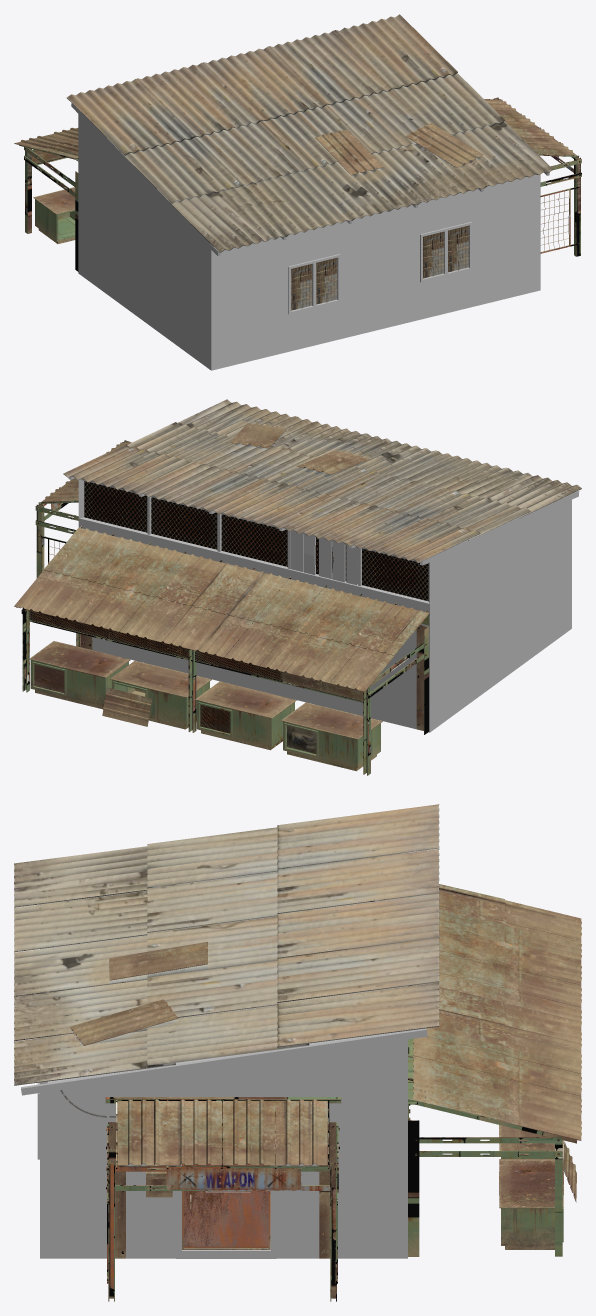
File: SHOP1.fbx
3 renders of one model, top to bottom at view 1: azimuth 30°, elevation 25°; view 2: azimuth 150°, elevation 25°; view 3: azimuth 270°, elevation 25°, orthographic. The views are drawn at different scales.
Parts seen in each view (by area): view 1: Roof, Object007, Object008, Glass, Woods, Object004, Environments, Object005, Object014, Object017; view 2: Roof, Object008, Object004, Tiles, Object009, Woods, Object005, Object016, Environments, Object018, Object017, Object019 (+1 smaller); view 3: Roof, Object010, Wall, Woods, Object005, Object004, Object003, Environments, Object015, Object014, Object020, Object019.
Boxes of the visible parts, x1,y1,x2,y2 form: Roof: [14, 14, 576, 252]; Object007: [211, 174, 540, 370]; Object008: [78, 114, 211, 370]; Glass: [291, 225, 468, 310]; Woods: [71, 102, 549, 314]; Object004: [33, 187, 75, 243]; Environments: [32, 150, 569, 308]; Object005: [19, 97, 581, 197]; Object014: [540, 156, 581, 256]; Object017: [25, 148, 31, 233]; Roof: [14, 399, 581, 726]; Object008: [428, 499, 571, 732]; Object004: [29, 641, 382, 771]; Tiles: [29, 481, 428, 733]; Object009: [78, 517, 429, 732]; Woods: [68, 476, 579, 601]; Object005: [16, 440, 429, 702]; Object016: [416, 625, 428, 734]; Environments: [33, 501, 382, 721]; Object018: [188, 649, 196, 732]; Object017: [363, 687, 370, 775]; Object019: [22, 608, 29, 692]; Roof: [14, 804, 581, 1202]; Object010: [40, 1092, 407, 1258]; Wall: [48, 1039, 407, 1091]; Woods: [21, 850, 427, 1258]; Object005: [105, 896, 577, 1192]; Object004: [499, 1125, 563, 1249]; Object003: [182, 1164, 270, 1249]; Environments: [60, 1090, 304, 1197]; Object015: [319, 1122, 337, 1301]; Object014: [107, 1122, 125, 1301]; Object020: [408, 1120, 419, 1256]; Object019: [555, 1140, 562, 1256].
Size of the model in its own units: 950 by 388 by 850.
